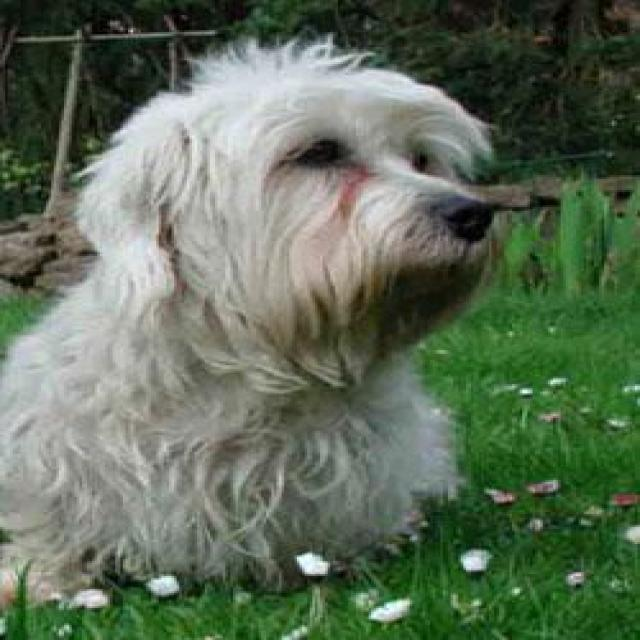dandie_dinmont: (3, 40, 499, 604)
